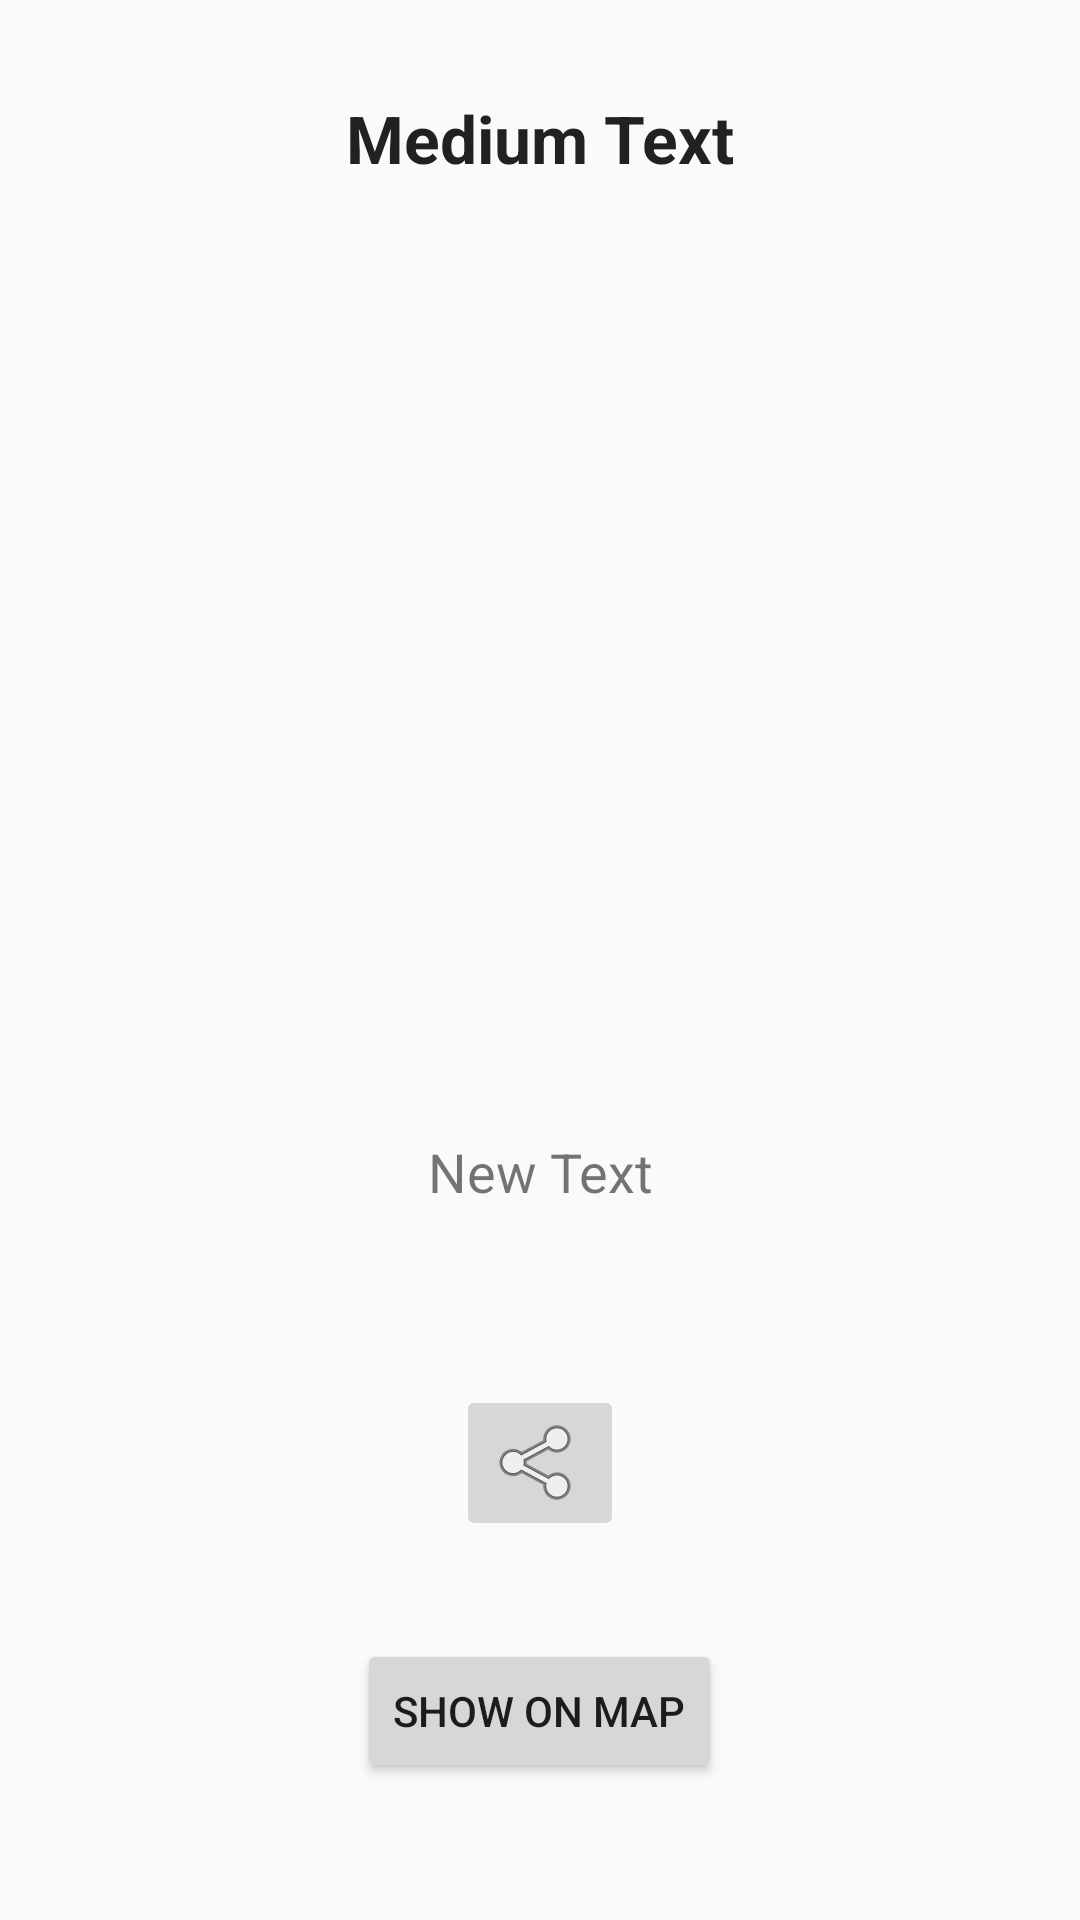

Named icons in this screenshot (1080x1920) and their centers, (x,y):
share: (540,1463)
